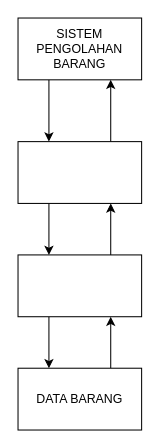
The diagram is 160 pixels wide and 448 high, and some of its shapes have lost their labels. The shapes that lost their labels are listed below. From the top down, each one's centre as x and y in pixels, then its label:
pixel 79 172: PROSES PENEMPATAN BARANG DARI KANTOR PUSAT
pixel 79 285: SISTEM BARCODE/QR SCANNER
